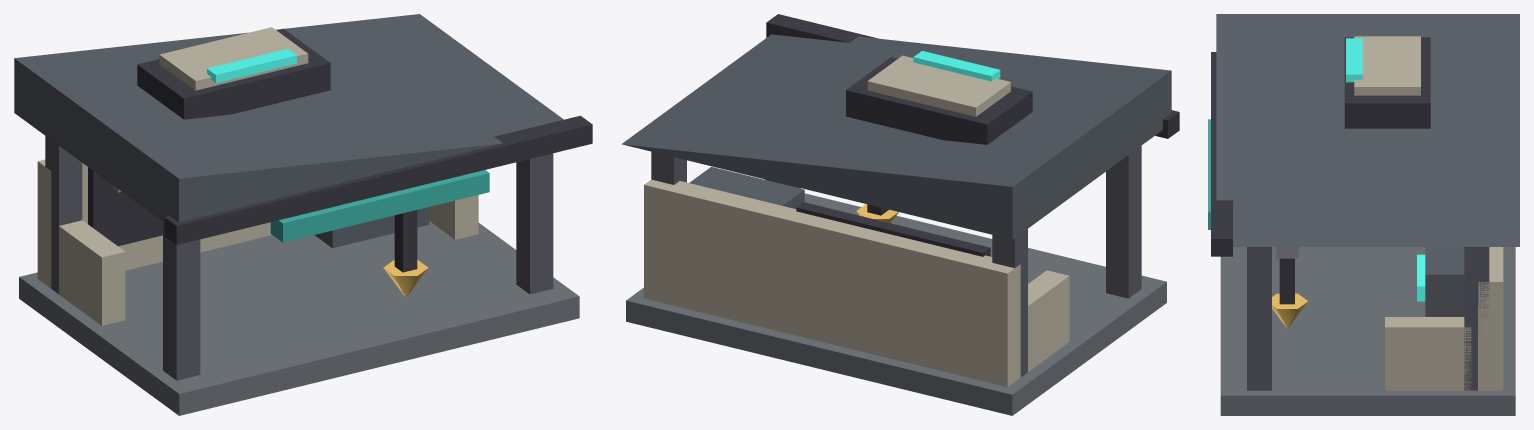
The model's file is scene__afterlightWorkshop.glb.
3 views of the same model, side by side, from view 1: azimuth 30°, elevation 25°; view 2: azimuth 150°, elevation 25°; view 3: azimuth 270°, elevation 25° (orthographic). The views are drawn at different scales.
Size of the model in its own units: 3.18 by 1.94 by 2.24.
